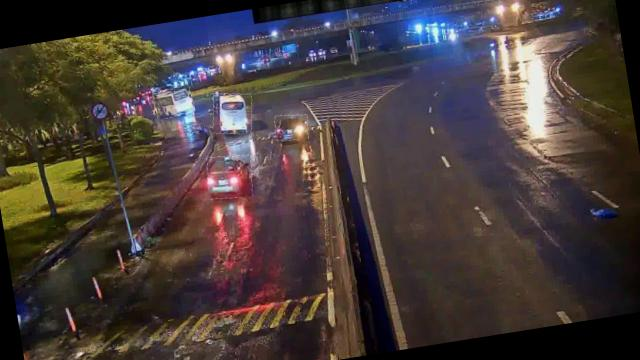Bus: (209, 89, 256, 137), (152, 84, 195, 120)
Car: (205, 151, 256, 201), (273, 112, 310, 142)
